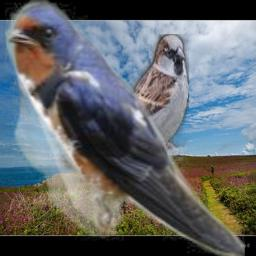Sparrow: (84, 34, 189, 161)
Swallow: (5, 0, 245, 256)
